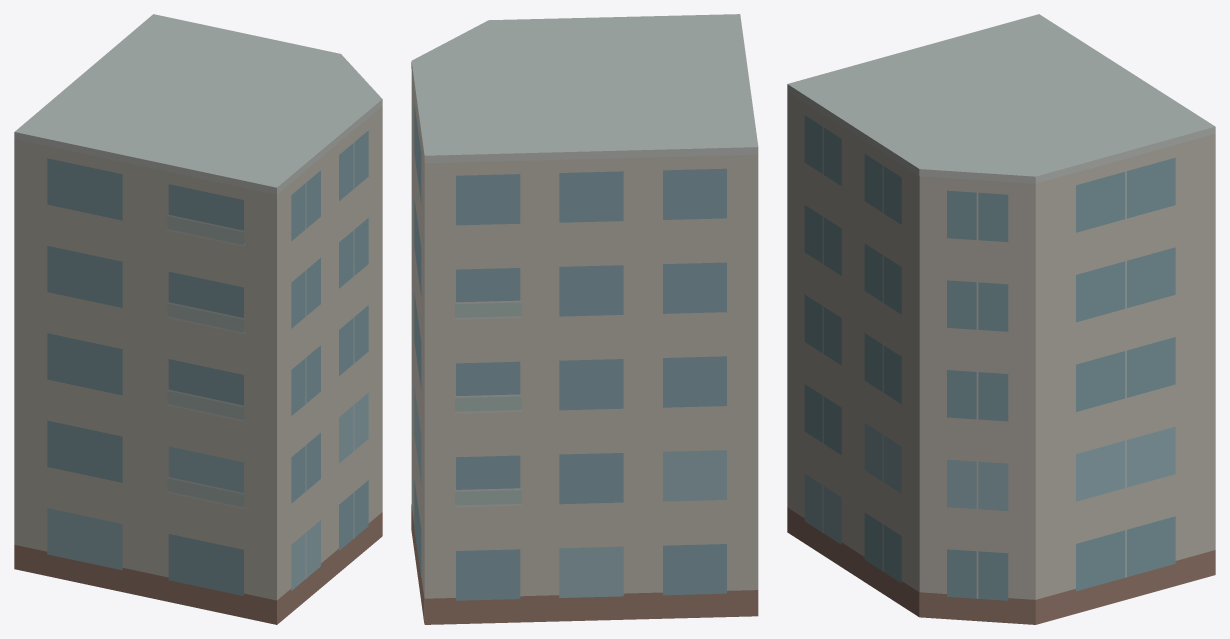
The model's file is survey-upis-32956780.glb.
3 views of the same model, side by side, from view 1: azimuth 30°, elevation 25°; view 2: azimuth 150°, elevation 25°; view 3: azimuth 270°, elevation 25° (orthographic). The views are drawn at different scales.
Parts seen in each view (by area): view 1: survey-upis-32956780.tmp; view 2: survey-upis-32956780.tmp; view 3: survey-upis-32956780.tmp.
Part boxes in pixels (left/top/right/bottom): survey-upis-32956780.tmp: left=14, top=14, right=382, bottom=624; survey-upis-32956780.tmp: left=411, top=14, right=758, bottom=624; survey-upis-32956780.tmp: left=787, top=14, right=1215, bottom=624.
Bounding box in the file's own units: 11.91 × 15.3 × 13.26.
